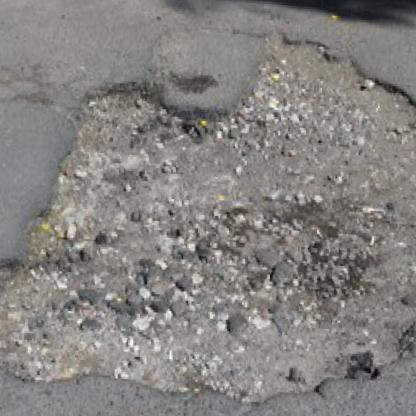pothole: (0, 9, 416, 416)
